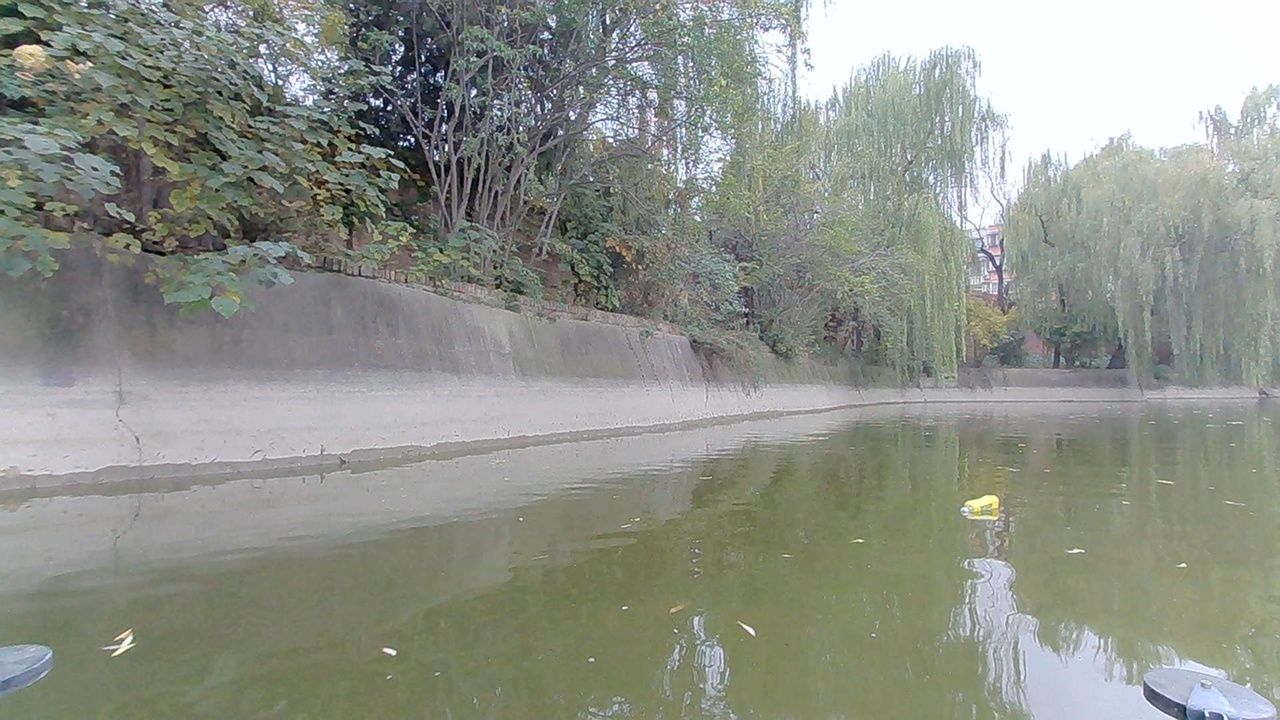bottle: (967, 495, 1001, 518)
